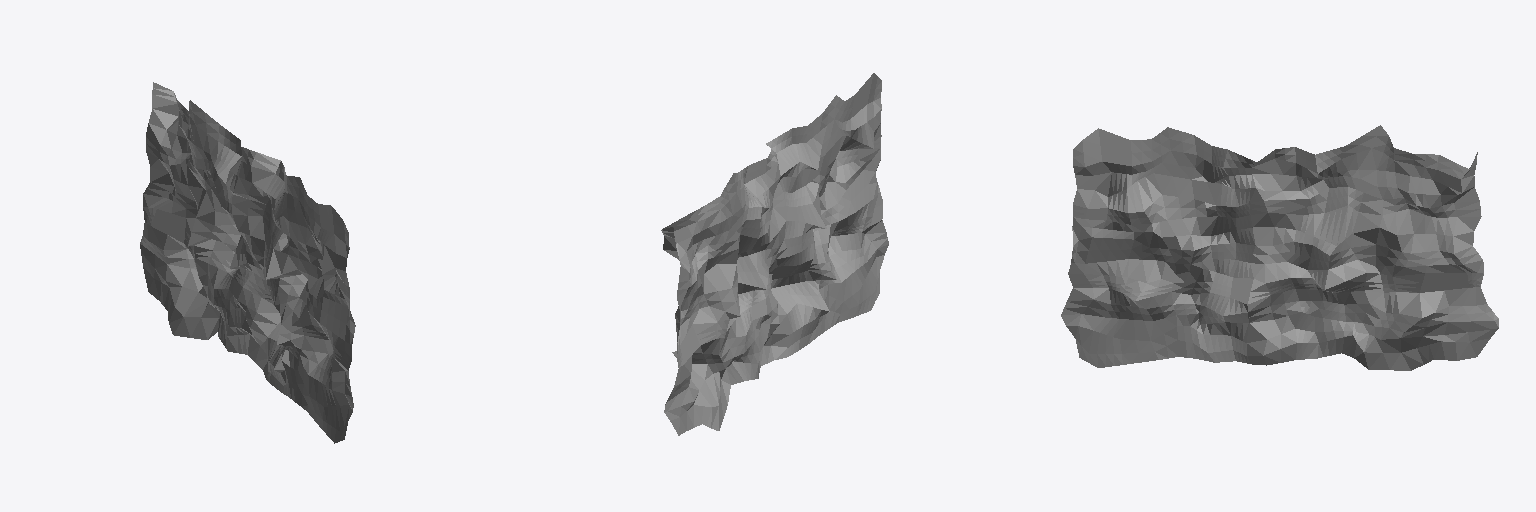
Rendered from wall.obj.
The picture shows the model from 3 angles: view 1: azimuth 30°, elevation 25°; view 2: azimuth 150°, elevation 25°; view 3: azimuth 270°, elevation 25°; orthographic projection.
Visible parts, largest first — view 1: Cube_Cube.001; view 2: Cube_Cube.001; view 3: Cube_Cube.001.
Part boxes in pixels (bbox=[...]): Cube_Cube.001: bbox=[140, 82, 355, 443]; Cube_Cube.001: bbox=[661, 73, 888, 435]; Cube_Cube.001: bbox=[1061, 125, 1498, 370].
Size of the model in its own units: 1.46 by 6.9 by 11.1.